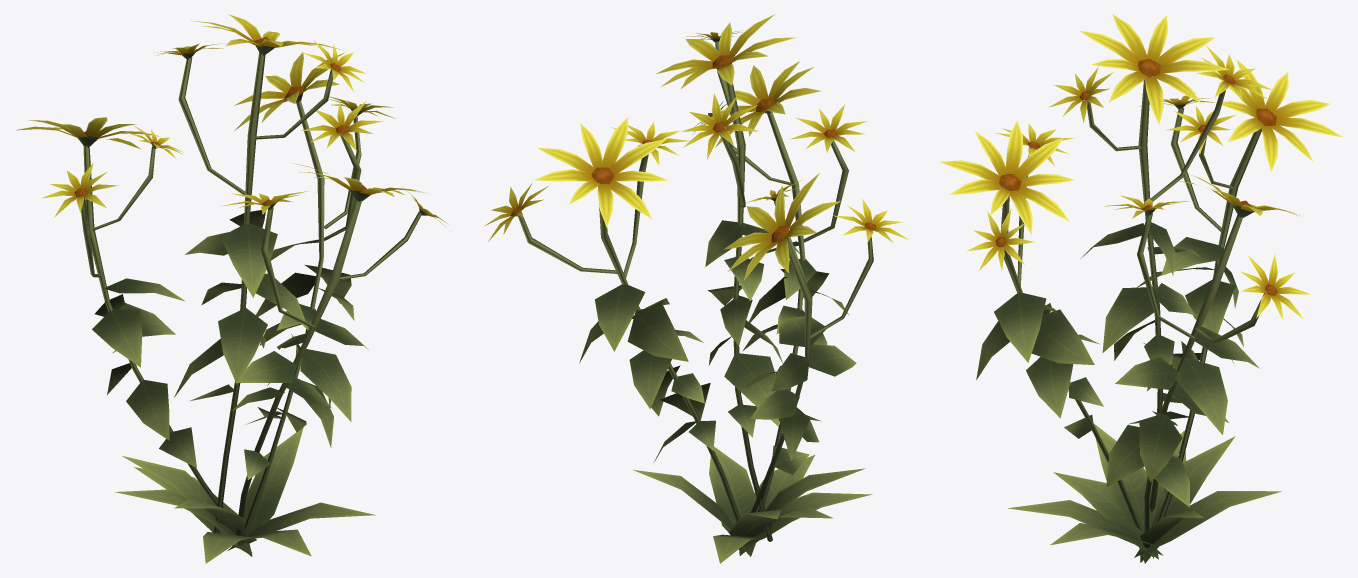
Rendered from assets_maa-artisokka_kukat1.fbx.
3 views of the same model, side by side, from view 1: azimuth 30°, elevation 25°; view 2: azimuth 150°, elevation 25°; view 3: azimuth 270°, elevation 25° (orthographic). The views are drawn at different scales.
Visible parts, largest first — view 1: assets_maa_artisokka_kukat1; view 2: assets_maa_artisokka_kukat1; view 3: assets_maa_artisokka_kukat1.
Boxes of the visible parts, x1,y1,x2,y2 form: assets_maa_artisokka_kukat1: (16, 14, 451, 563); assets_maa_artisokka_kukat1: (485, 14, 909, 563); assets_maa_artisokka_kukat1: (939, 14, 1342, 563).
Bounding box in the file's own units: 5.96 × 7.79 × 5.37.
